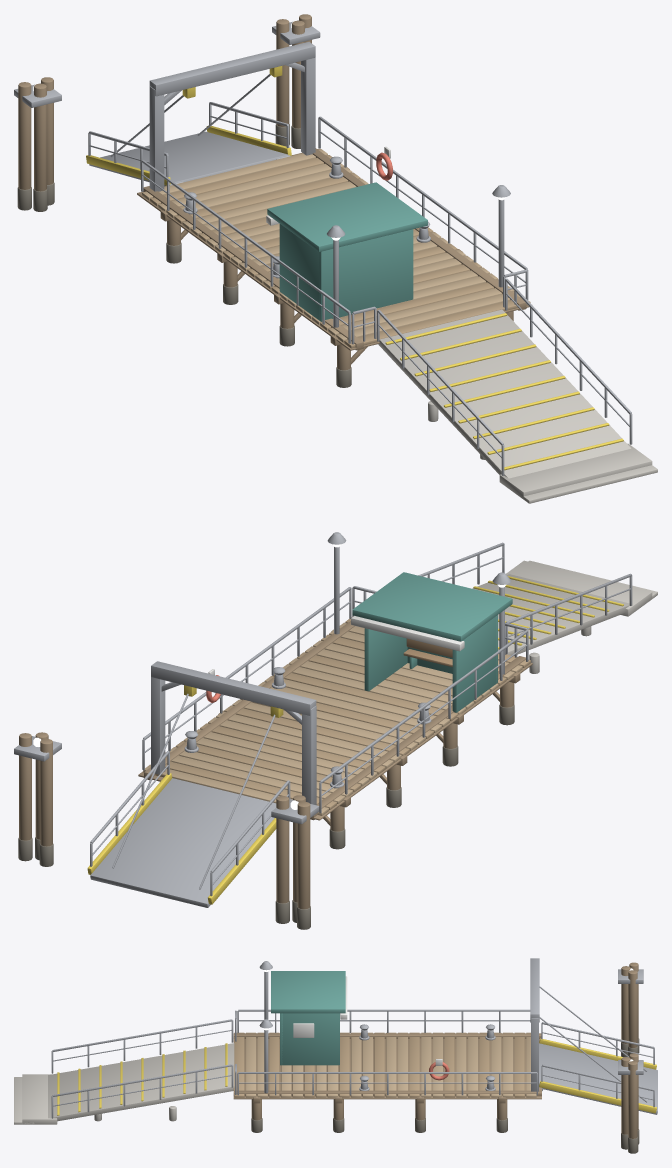
The model's file is th15_faehranleger.glb.
3 renders of one model, top to bottom at view 1: azimuth 30°, elevation 25°; view 2: azimuth 150°, elevation 25°; view 3: azimuth 270°, elevation 25°, orthographic. The views are drawn at different scales.
Visible parts, largest first — view 1: Cube.041, Cube.099, Cube.093, Cube.069, Cube.042, Cube.088, Cube.095, Cube.084, Cube.012, Cylinder.032, Cube.086, Cube.035 (+19 smaller); view 2: Cube.069, Cube.099, Cube.041, Cube.088, Cube.095, Cube.042, Cube.097, Cylinder.032, Cube.013, Cube.084, Cube.012, Cylinder.030 (+31 smaller); view 3: Cube.041, Cube.069, Cube.099, Cube.097, Cube.040, Cube.042, Cube.013, Cube.012, Cylinder.036, Cube.077, Cylinder.030, Cube.106 (+41 smaller).
Part boxes in pixels (<box>): Cube.041: <box>378,309,631,478</box>; Cube.099: <box>267,182,427,251</box>; Cube.093: <box>319,229,413,321</box>; Cube.069: <box>89,131,288,186</box>; Cube.042: <box>499,443,652,498</box>; Cube.088: <box>149,41,315,96</box>; Cube.095: <box>279,224,319,320</box>; Cube.084: <box>149,86,164,191</box>; Cube.012: <box>143,186,363,350</box>; Cylinder.032: <box>18,82,31,189</box>; Cube.086: <box>301,57,315,155</box>; Cube.035: <box>174,172,360,223</box>; Cube.069: <box>90,778,276,907</box>; Cube.099: <box>352,572,512,641</box>; Cube.041: <box>472,574,629,655</box>; Cube.088: <box>151,661,316,715</box>; Cube.095: <box>452,616,496,712</box>; Cube.042: <box>506,560,652,616</box>; Cube.097: <box>364,628,407,691</box>; Cylinder.032: <box>297,801,310,909</box>; Cube.013: <box>144,621,354,780</box>; Cube.084: <box>302,706,316,805</box>; Cube.012: <box>310,656,525,820</box>; Cylinder.030: <box>276,796,289,903</box>; Cube.041: <box>48,1043,234,1121</box>; Cube.069: <box>539,1043,657,1114</box>; Cube.099: <box>271,971,345,1013</box>; Cube.097: <box>282,1013,339,1065</box>; Cube.040: <box>233,1039,541,1099</box>; Cube.042: <box>22,1074,57,1124</box>; Cube.013: <box>233,1090,541,1096</box>; Cube.012: <box>233,1033,541,1038</box>; Cylinder.036: <box>628,1061,637,1138</box>; Cube.077: <box>539,1081,656,1113</box>; Cylinder.030: <box>628,970,637,1047</box>; Cube.106: <box>238,1009,530,1011</box>.
Bounding box in the file's own units: 10.42 × 5.48 × 27.57.
